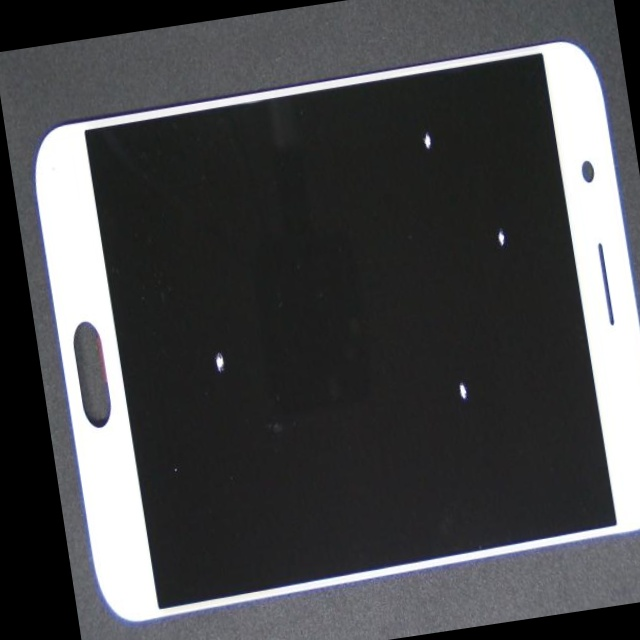stain: (220, 87, 640, 613), (224, 45, 640, 405), (193, 0, 619, 217), (114, 169, 323, 507)
